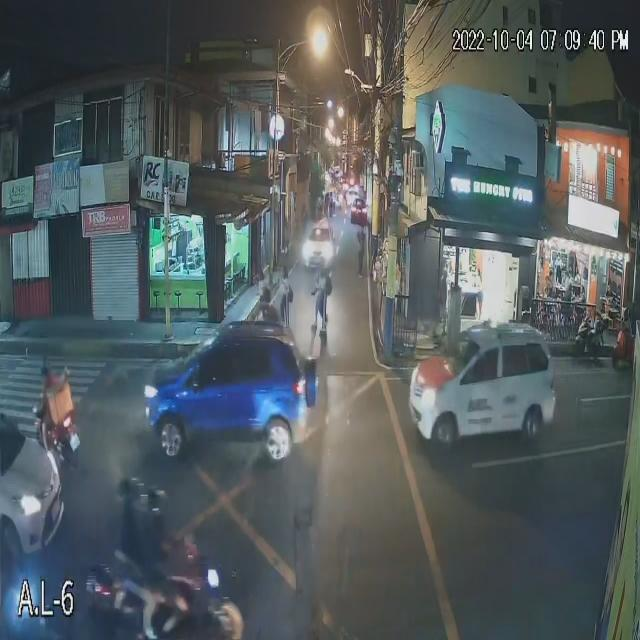helmet: (144, 485, 172, 514), (117, 475, 145, 502)
motorcycle: (82, 549, 244, 639), (35, 408, 83, 467), (575, 322, 612, 355)
rider: (143, 517, 198, 640), (116, 508, 156, 636), (41, 379, 57, 450)
